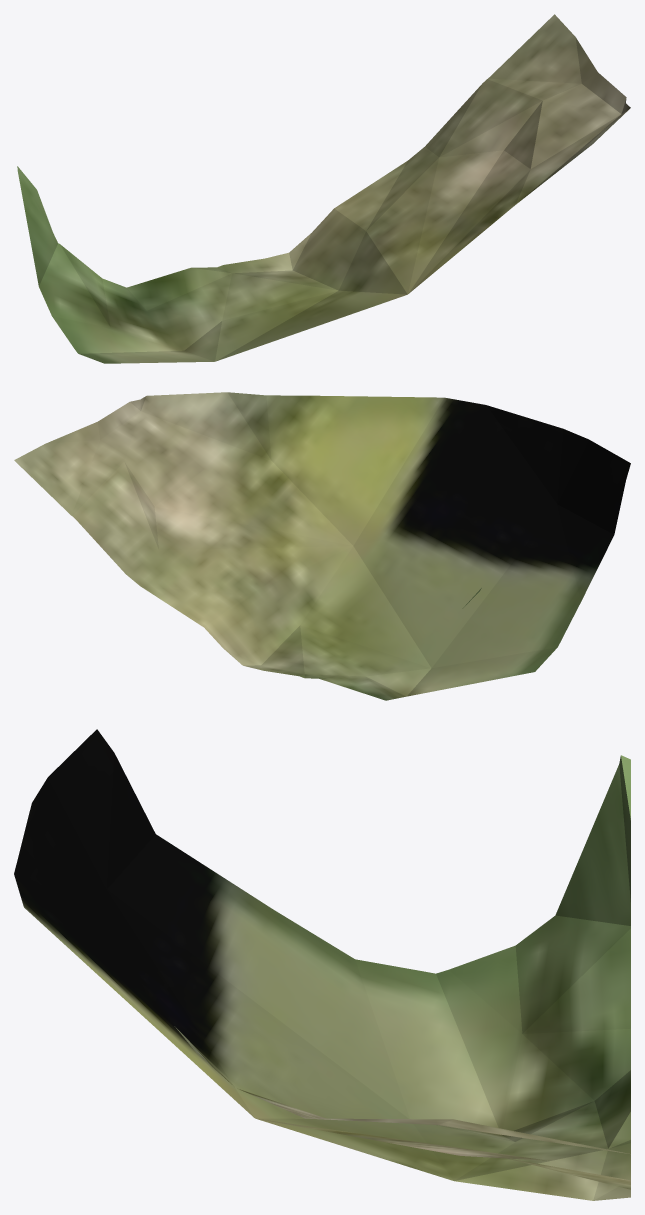
3 views of the same model, one above another, from view 1: azimuth 30°, elevation 25°; view 2: azimuth 150°, elevation 25°; view 3: azimuth 270°, elevation 25° (orthographic). The views are drawn at different scales.
Size of the model in its own units: 7.17 by 2.59 by 4.65.
Materials: 1 (1 with a texture image).
